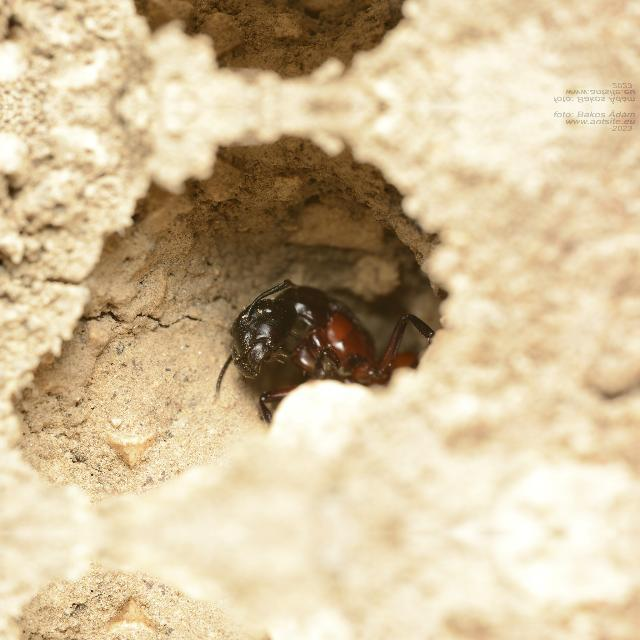Camponotus: (203, 262, 475, 446)
